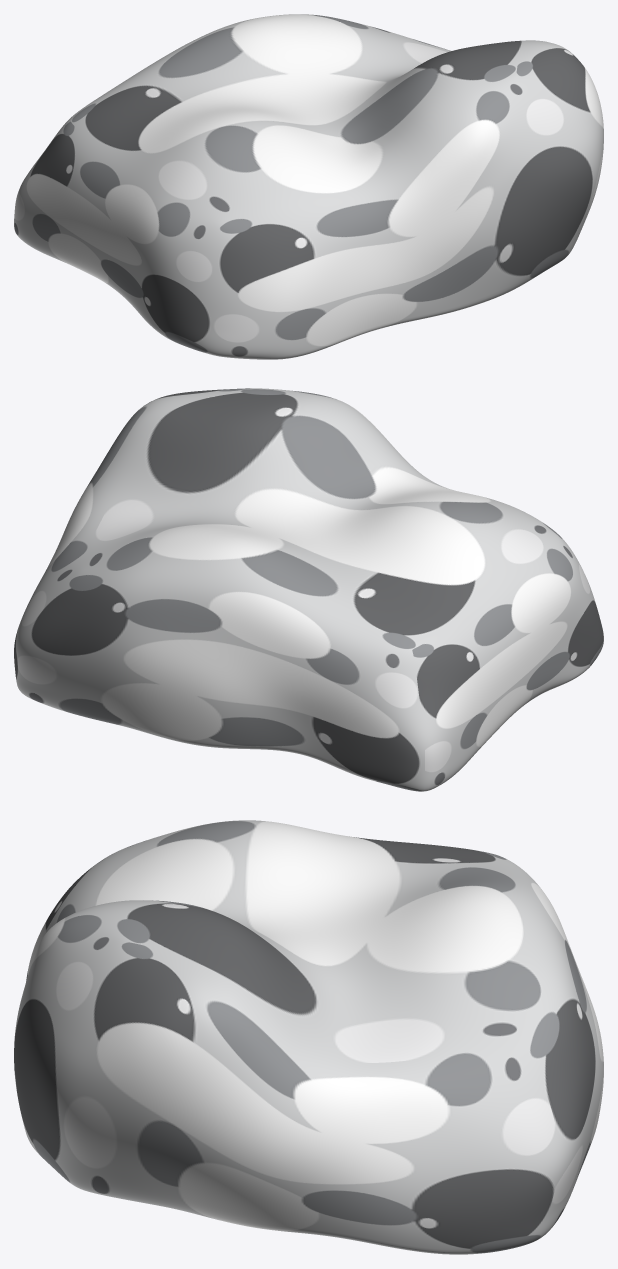
File: Stone2.fbx
3 views of the same model, one above another, from view 1: azimuth 30°, elevation 25°; view 2: azimuth 150°, elevation 25°; view 3: azimuth 270°, elevation 25° (orthographic). The views are drawn at different scales.
Parts seen in each view (by area): view 1: Stone2; view 2: Stone2; view 3: Stone2.
Boxes of the visible parts, x1,y1,x2,y2 form: Stone2: (14,14,603,359); Stone2: (14,388,603,791); Stone2: (14,820,603,1254).
Size of the model in its own units: 3.63 by 1.59 by 3.17.
Materials: 1 (1 with a texture image).
